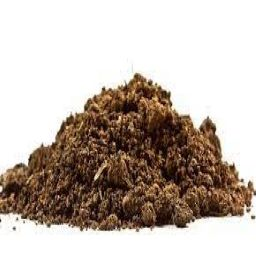dirt: (1, 75, 254, 227)
